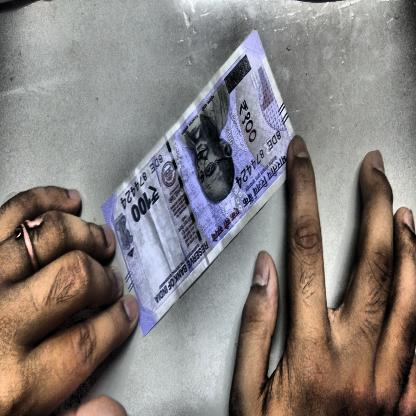Rs100: (128, 176, 163, 230)
